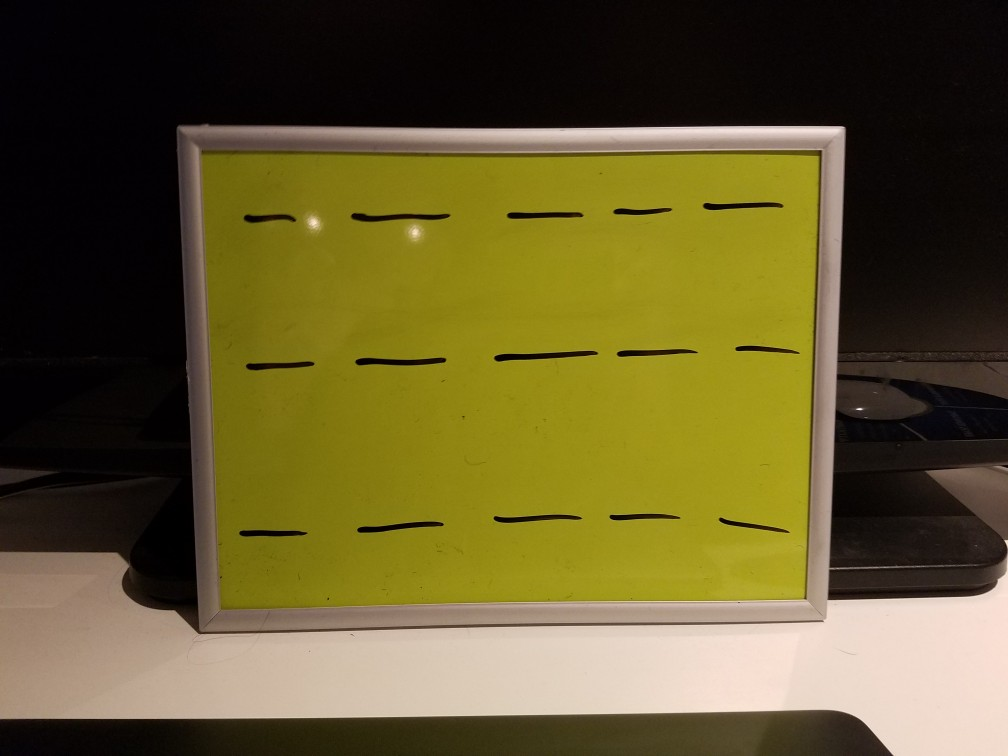-: (483, 493, 592, 539), (341, 194, 456, 235), (710, 497, 793, 551), (606, 491, 693, 540), (347, 345, 460, 381), (700, 185, 795, 227), (492, 342, 604, 375), (732, 330, 812, 374), (354, 507, 446, 545), (615, 332, 703, 370), (489, 199, 586, 232), (233, 517, 320, 551), (604, 193, 679, 229), (235, 199, 305, 235), (244, 350, 321, 379)
